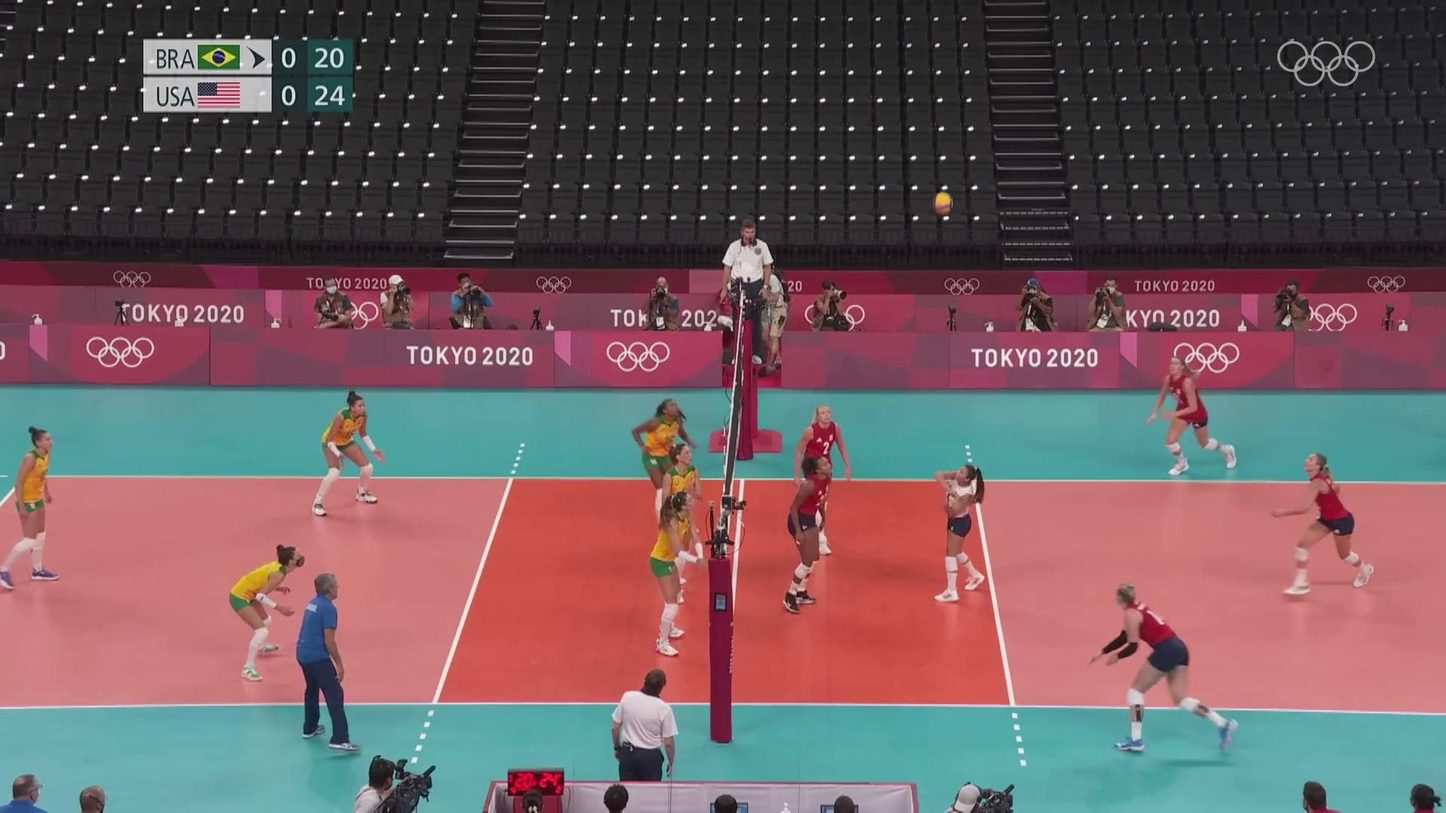player: (1090, 576, 1239, 754), (1273, 452, 1375, 601), (1144, 352, 1237, 476), (230, 538, 304, 682), (0, 425, 58, 590), (633, 390, 697, 539), (794, 401, 852, 560), (310, 391, 382, 519), (650, 489, 699, 659), (932, 456, 988, 603), (783, 453, 833, 614), (658, 440, 701, 612)
refree: (611, 666, 677, 813), (719, 216, 775, 371)
